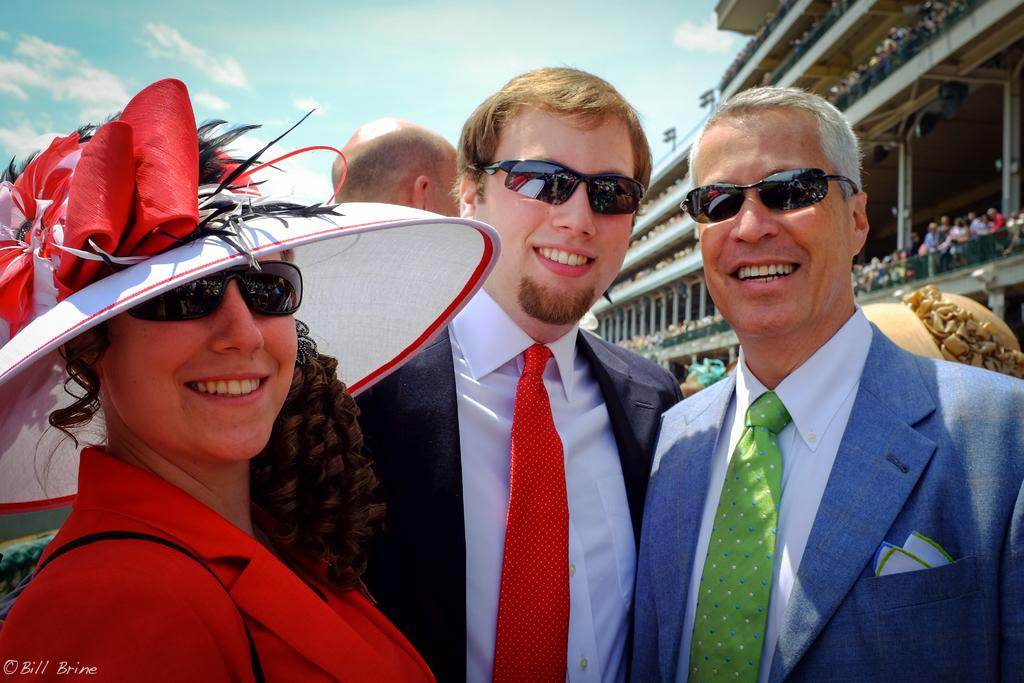Hat: (0, 75, 498, 512), (860, 282, 1022, 382)
